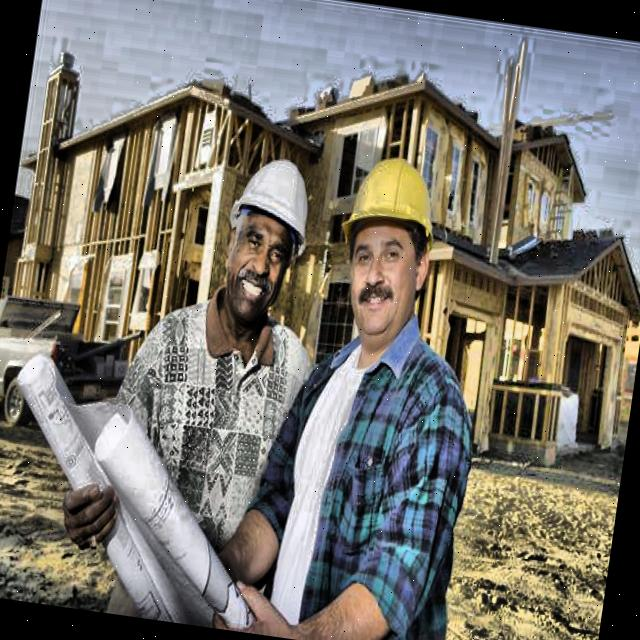helmet: (312, 134, 452, 354), (212, 140, 328, 332)
